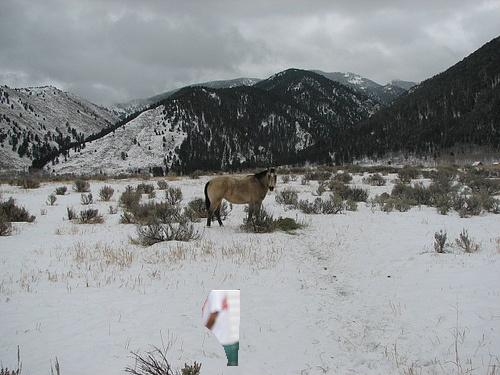tampered: (203, 290, 240, 366)
